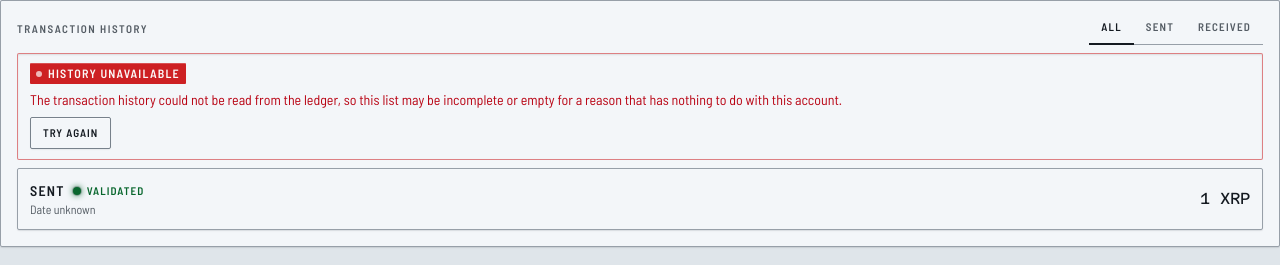
HistoryTab — a failed read is never an empty account › keeps the filter-reset route open when a later page fails under a filter
The width and height of the screenshot is (1280, 265).
Press the mouse on the tab "Received" at x=1224, y=28, box left=1186, top=13, right=1263, bottom=44
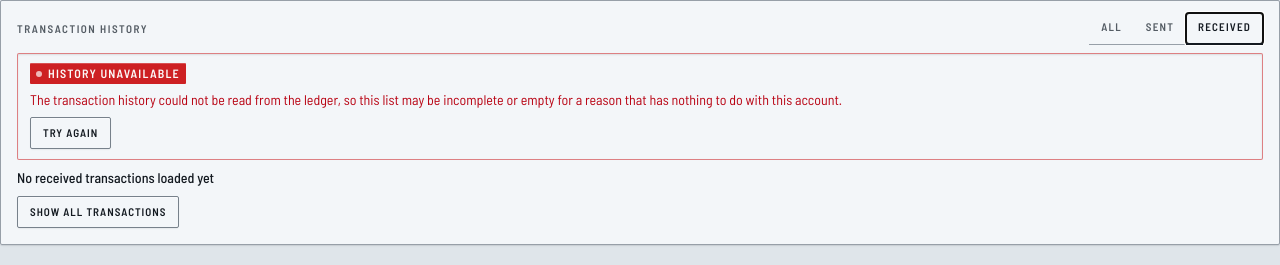
Expected: the button "Show all transactions" is shown, left=17, top=196, right=179, bottom=228
